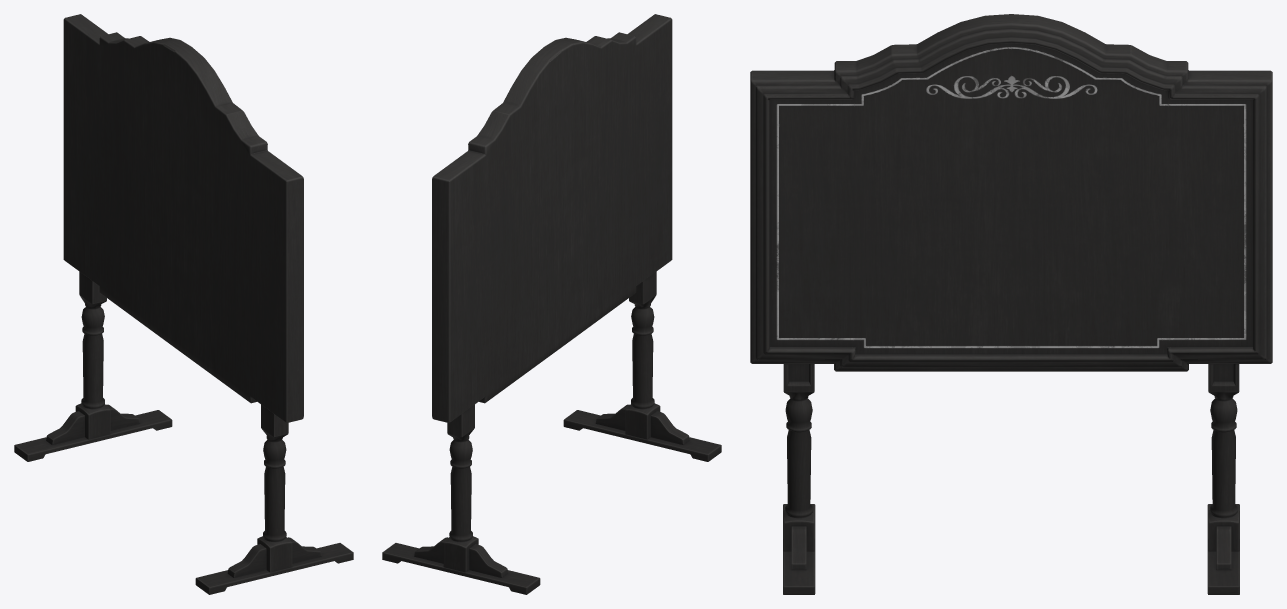
File: ChristmasRoom_PhotoBoard.fbx
3 renders of one model, left to right at view 1: azimuth 30°, elevation 25°; view 2: azimuth 150°, elevation 25°; view 3: azimuth 270°, elevation 25°, orthographic. The views are drawn at different scales.
Visible parts, largest first — view 1: ChristmasRoom_PhotoBoard; view 2: ChristmasRoom_PhotoBoard; view 3: ChristmasRoom_PhotoBoard.
Boxes of the visible parts, x1=… form: ChristmasRoom_PhotoBoard: x1=14, y1=14, x2=353, y2=594; ChristmasRoom_PhotoBoard: x1=382, y1=14, x2=721, y2=594; ChristmasRoom_PhotoBoard: x1=750, y1=14, x2=1272, y2=594.
Bounding box in the file's own units: 55.55 × 168 × 148.
